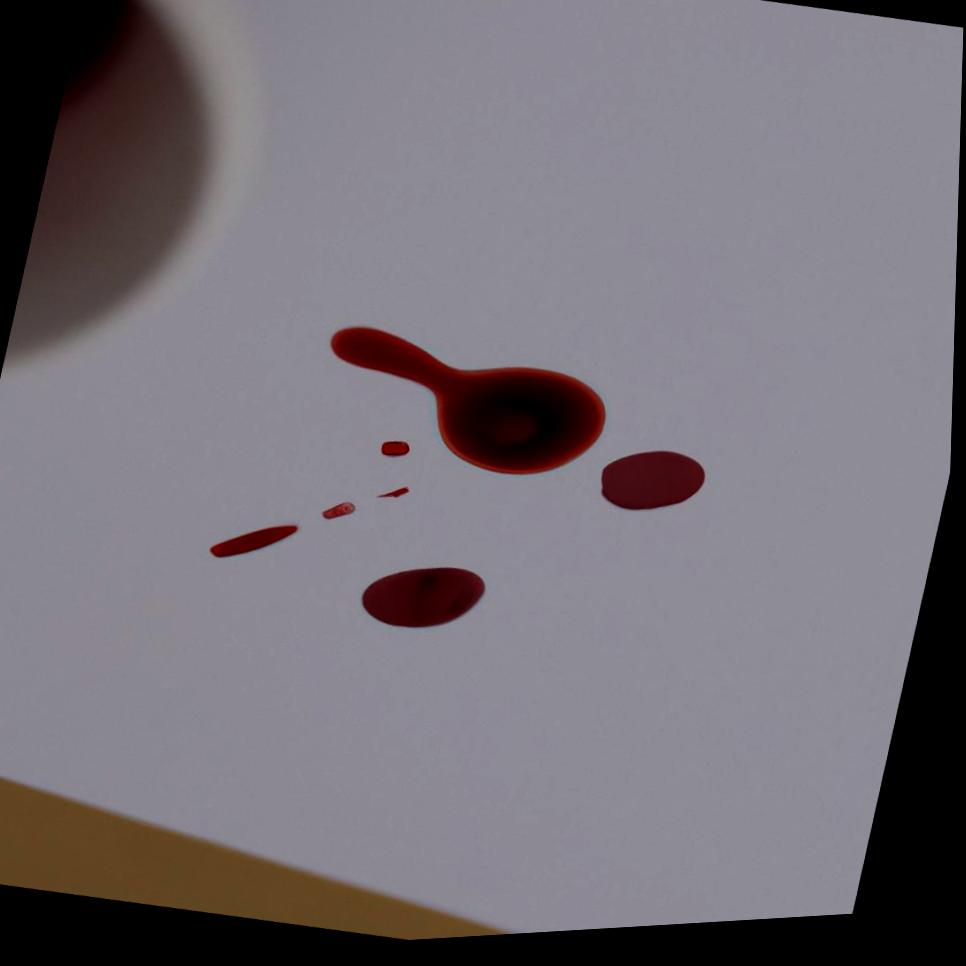Fire: (333, 333, 610, 483), (366, 573, 490, 634), (604, 459, 709, 520), (213, 529, 302, 562), (384, 447, 413, 462)
